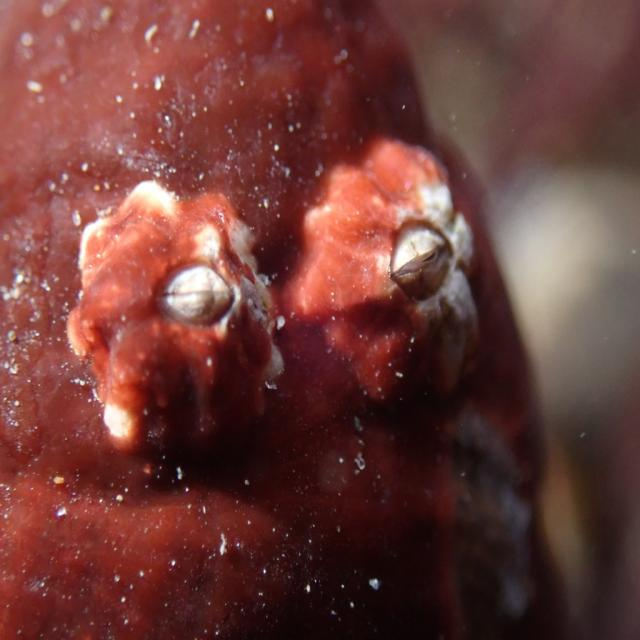barnacles: (65, 174, 284, 442), (300, 118, 490, 409)
